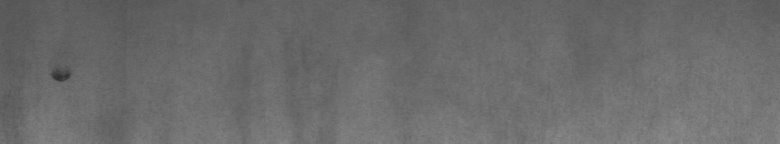fi: (45, 61, 75, 88)
